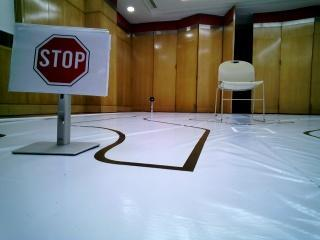stop: (16, 28, 97, 92)
